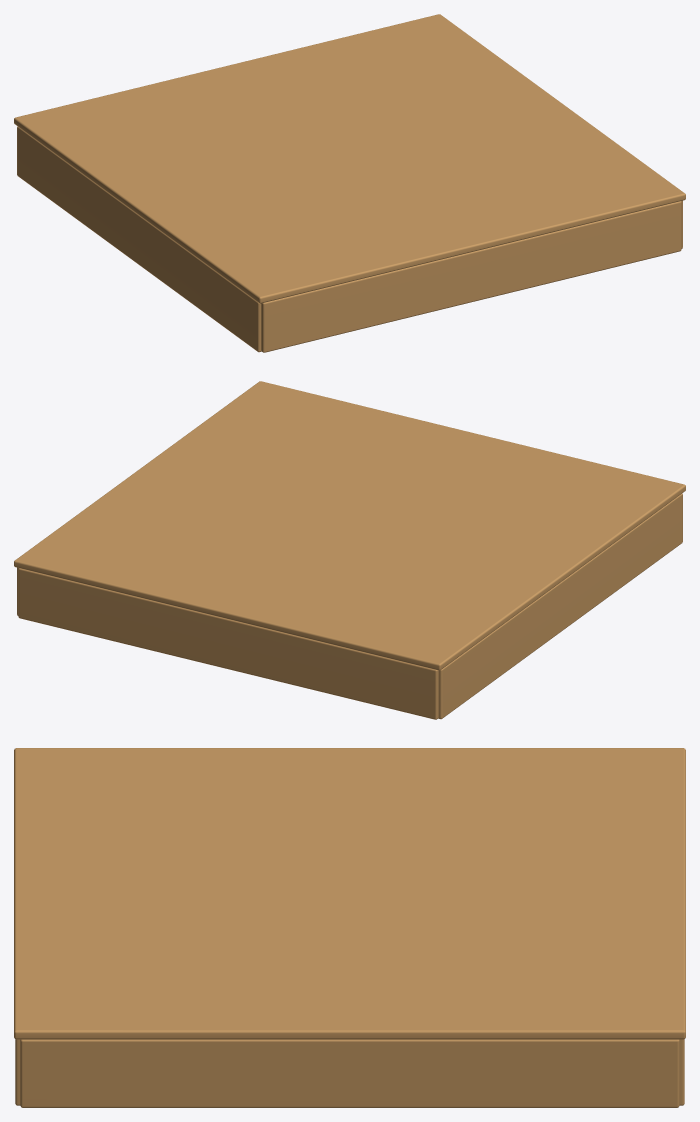
Rendered from pizza-box.glb.
3 renders of one model, top to bottom at view 1: azimuth 30°, elevation 25°; view 2: azimuth 150°, elevation 25°; view 3: azimuth 270°, elevation 25°, orthographic. The views are drawn at different scales.
Visible parts, largest first — view 1: Lid, Box wall.001, Box wall.003; view 2: Lid, Box wall, Box wall.003; view 3: Lid, Box wall.002.
Boxes of the visible parts, bbox=[...] form: Lid: bbox=[14, 14, 685, 303]; Box wall.001: bbox=[261, 201, 681, 352]; Box wall.003: bbox=[17, 126, 261, 352]; Lid: bbox=[14, 381, 685, 670]; Box wall: bbox=[18, 568, 438, 719]; Box wall.003: bbox=[438, 493, 682, 719]; Lid: bbox=[14, 748, 685, 1039]; Box wall.002: bbox=[20, 1039, 679, 1107].
Bounding box in the file's own units: 0.53 × 0.068 × 0.53.
